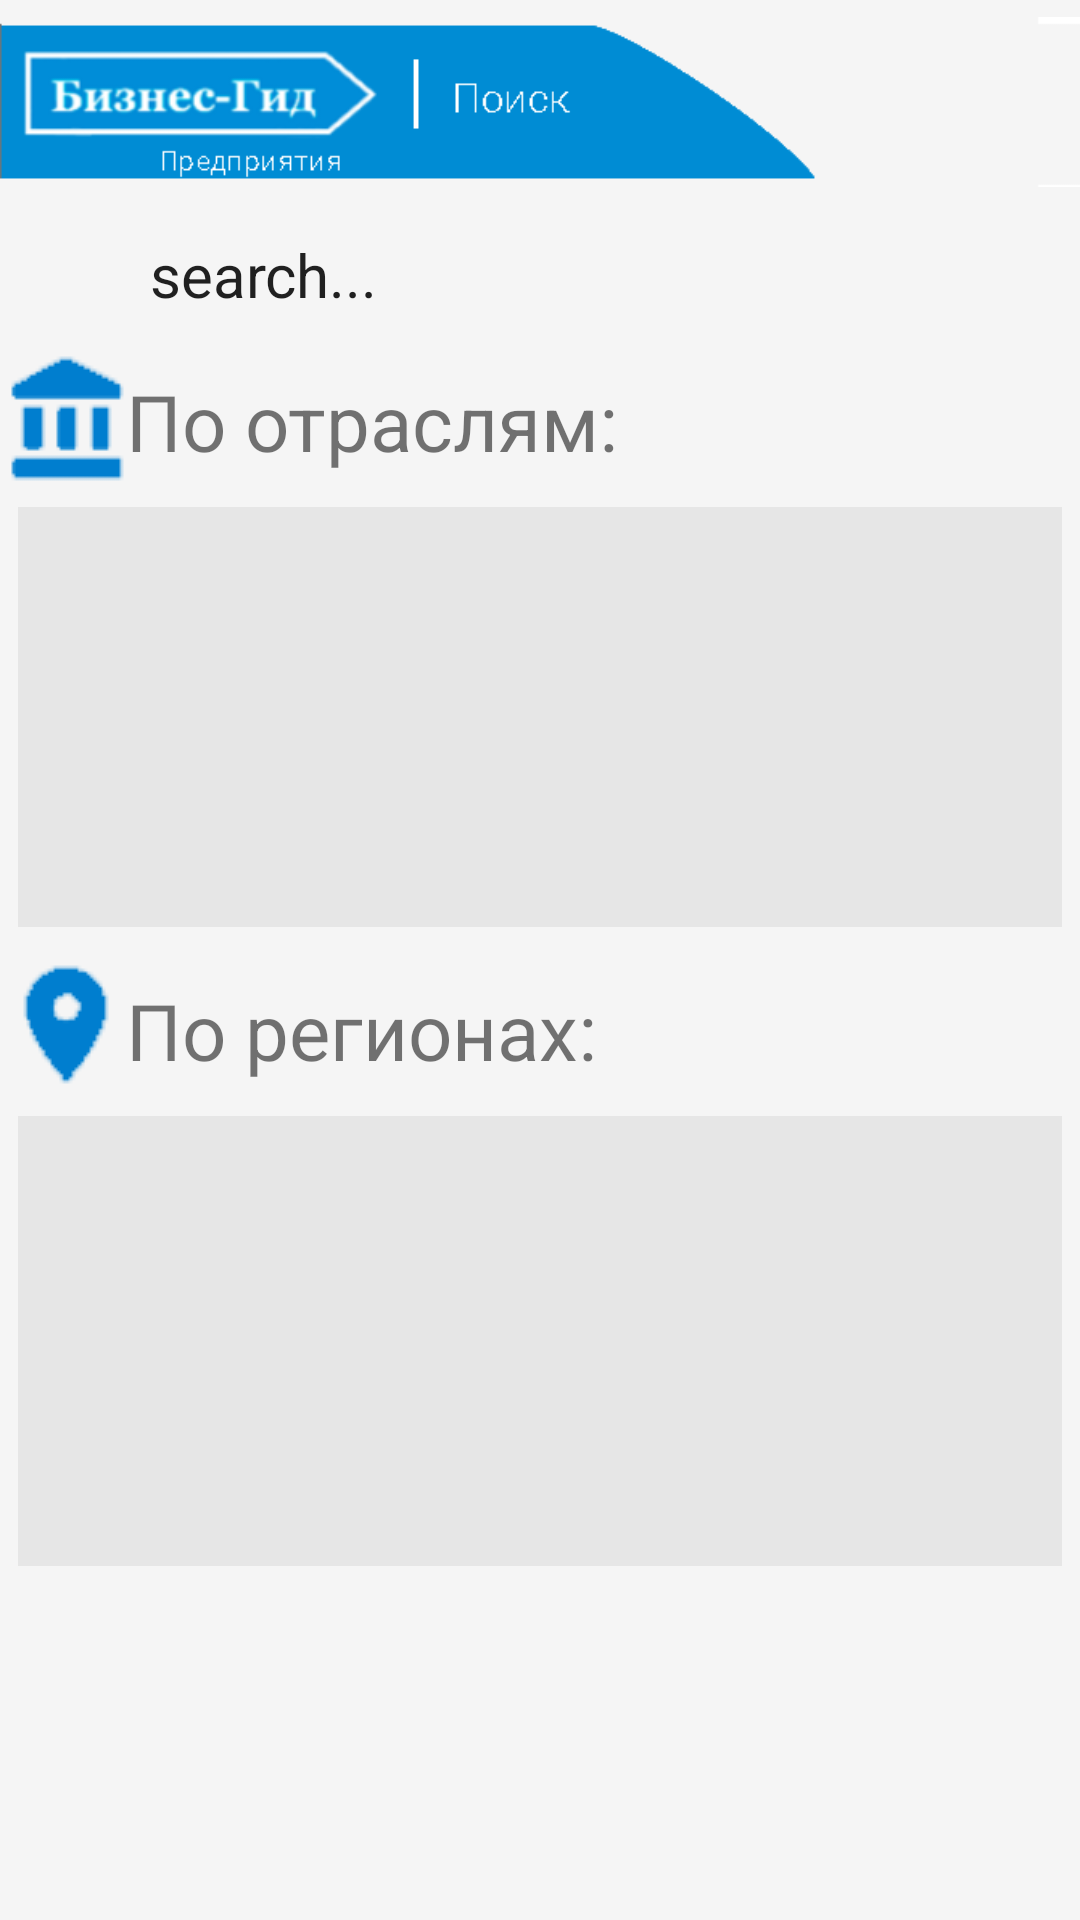

Point at icon controls on the screen. Image size 1080w x 1920h, points as [x,y].
reg clasf: [66,1024]
